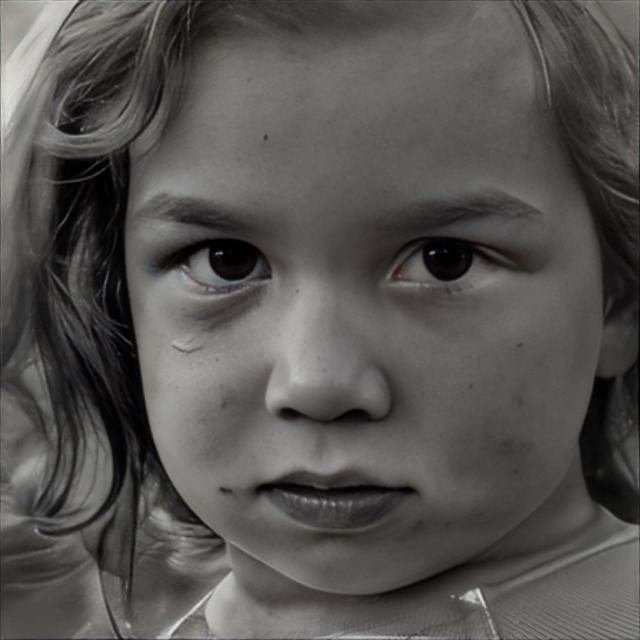neutral: (122, 0, 606, 598)
